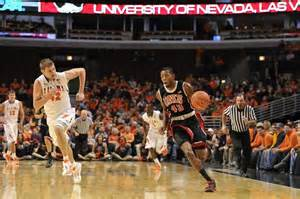basketball: (191, 91, 209, 108)
